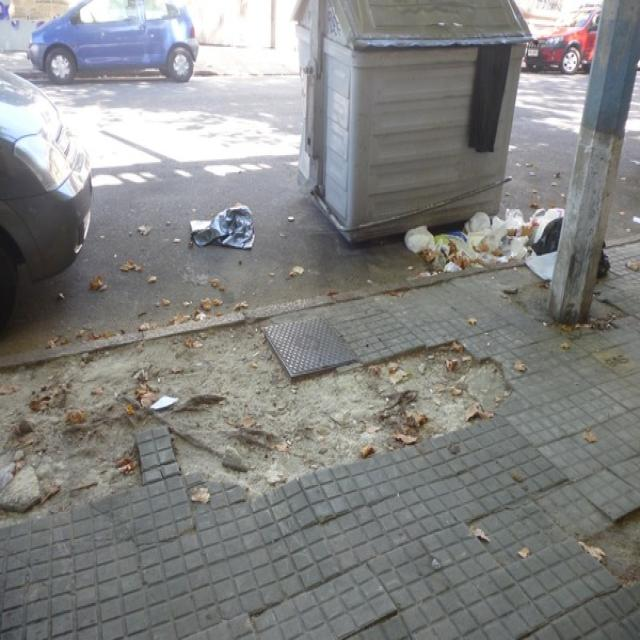garbage: (396, 202, 564, 264), (186, 196, 258, 255)
